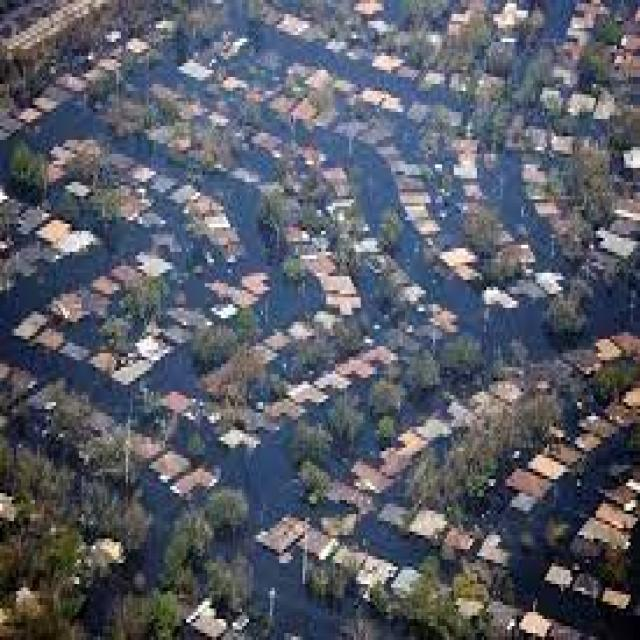Hurricane: (77, 105, 626, 620)
